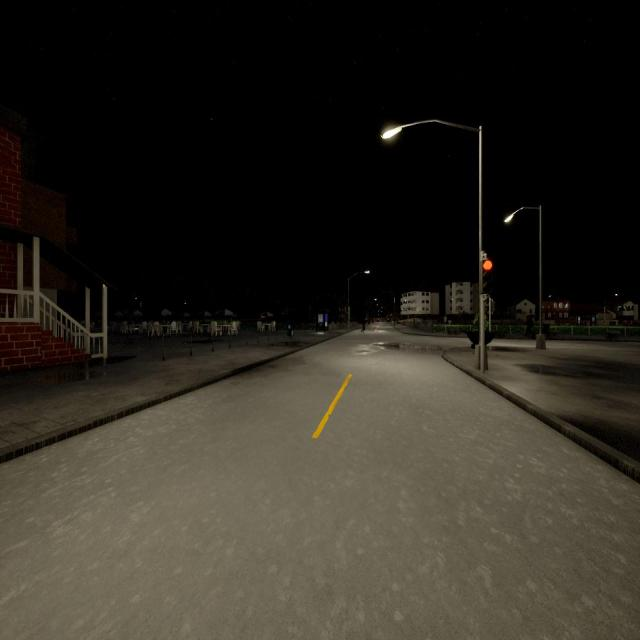Pedestrian: (360, 316, 366, 336)
Vehicle: (376, 318, 379, 322)
traffic_light: (479, 260, 493, 294), (490, 301, 496, 312)
